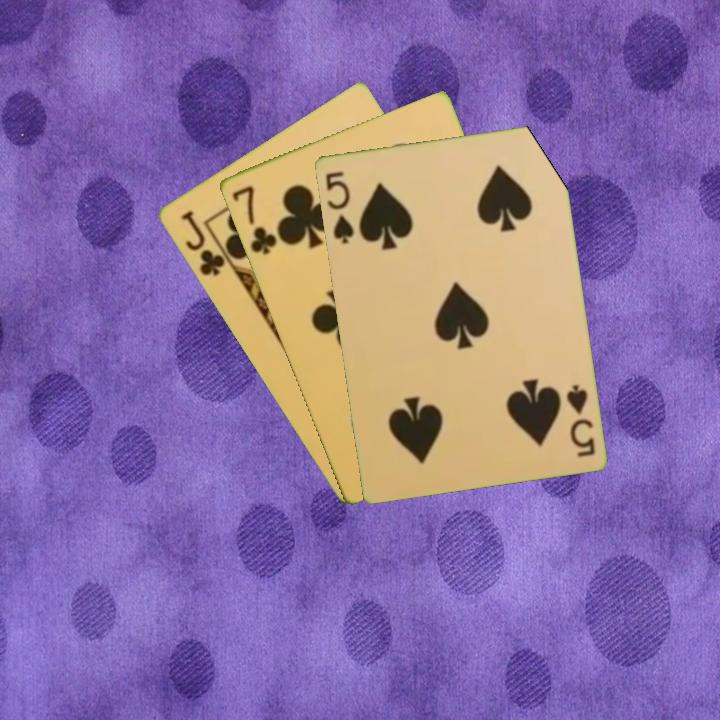5s: (562, 380, 597, 460), (321, 167, 356, 246)
7c: (228, 182, 280, 258)
Jc: (176, 207, 235, 279)
